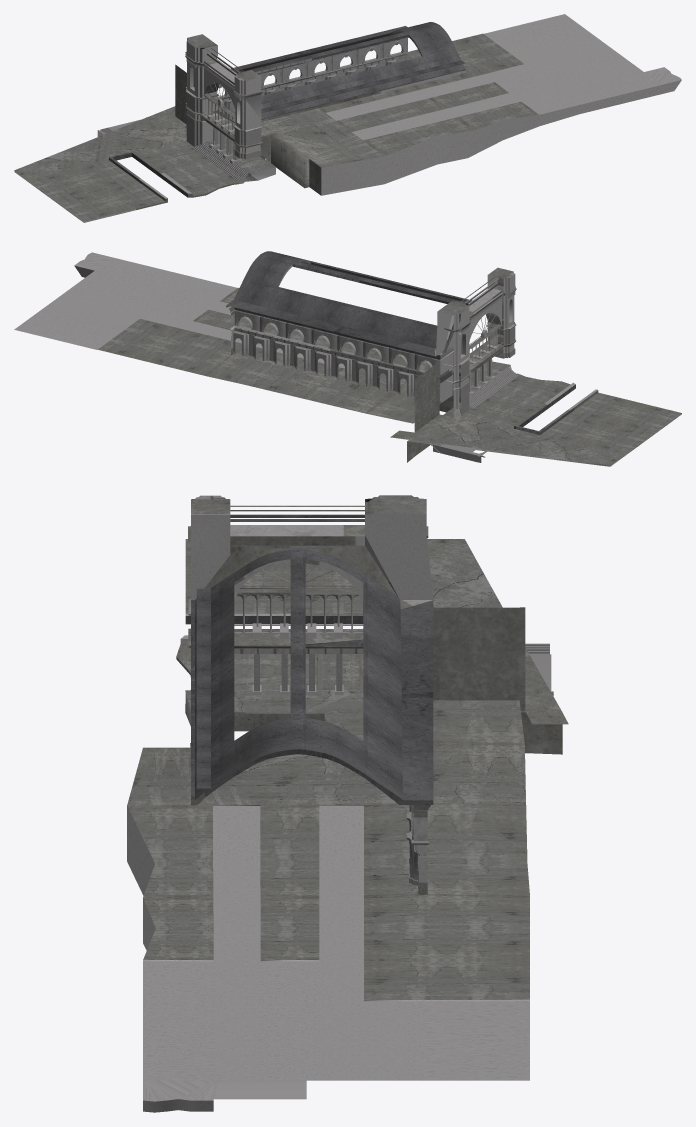
Rendered from 02_map_keleti_station.fbx.
3 views of the same model, one above another, from view 1: azimuth 30°, elevation 25°; view 2: azimuth 150°, elevation 25°; view 3: azimuth 270°, elevation 25° (orthographic). The views are drawn at different scales.
Parts seen in each view (by area): view 1: Keleti_01; view 2: Keleti_01; view 3: Keleti_01.
Boxes of the visible parts, left/top/right/bottom form: Keleti_01: left=14, top=14, right=681, bottom=222; Keleti_01: left=14, top=251, right=681, bottom=466; Keleti_01: left=127, top=495, right=568, bottom=1112.
Size of the model in its own units: 2770 by 550 by 900.
